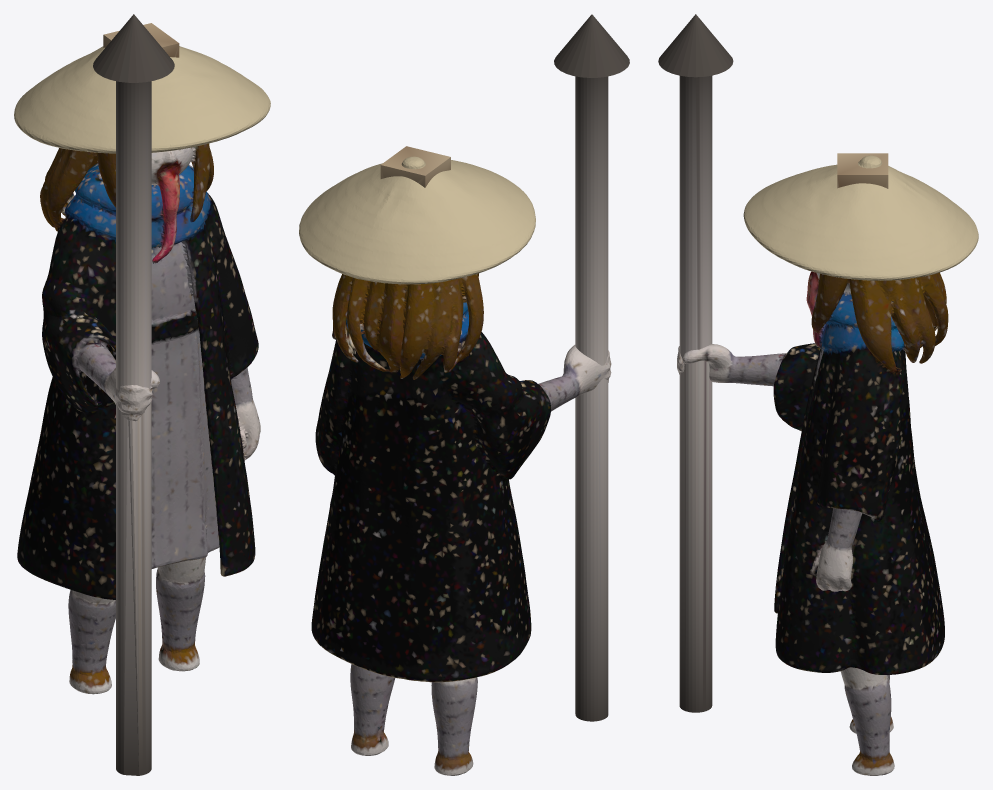
The model's file is figurine_assembled.glb.
The picture shows the model from 3 angles, left to right: view 1: azimuth 30°, elevation 25°; view 2: azimuth 150°, elevation 25°; view 3: azimuth 270°, elevation 25°; orthographic projection. The views are drawn at different scales.
Visible parts, largest first — view 1: world; view 2: world; view 3: world.
Boxes of the visible parts, x1,y1,x2,y2 form: world: (14,14,270,775); world: (299,14,629,775); world: (658,14,978,775).
Bounding box in the file's own units: 50.77 × 150 × 62.97.
